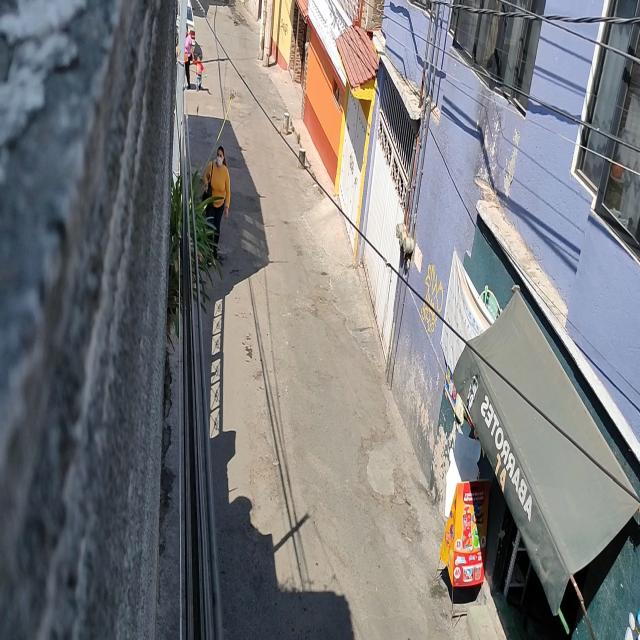adult: (203, 146, 230, 262)
